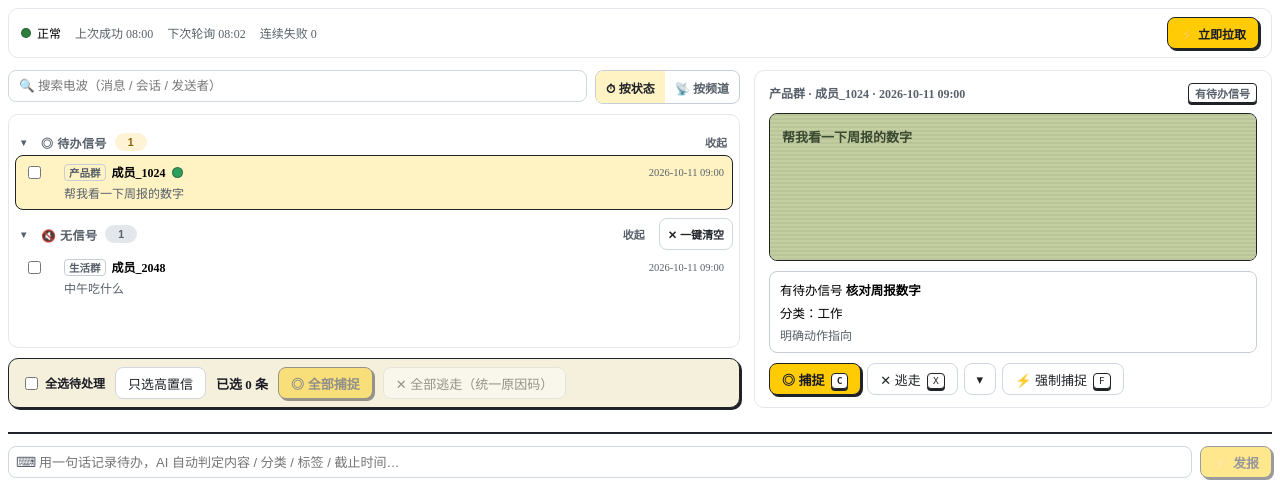
Test: 电波搜索（前端过滤，跨全部分组生效） › 按消息内容过滤：命中入组、未命中隐藏；清空恢复
Type "周报" into the field with test id "radio-search" at (298, 86), box [8, 70, 587, 102]
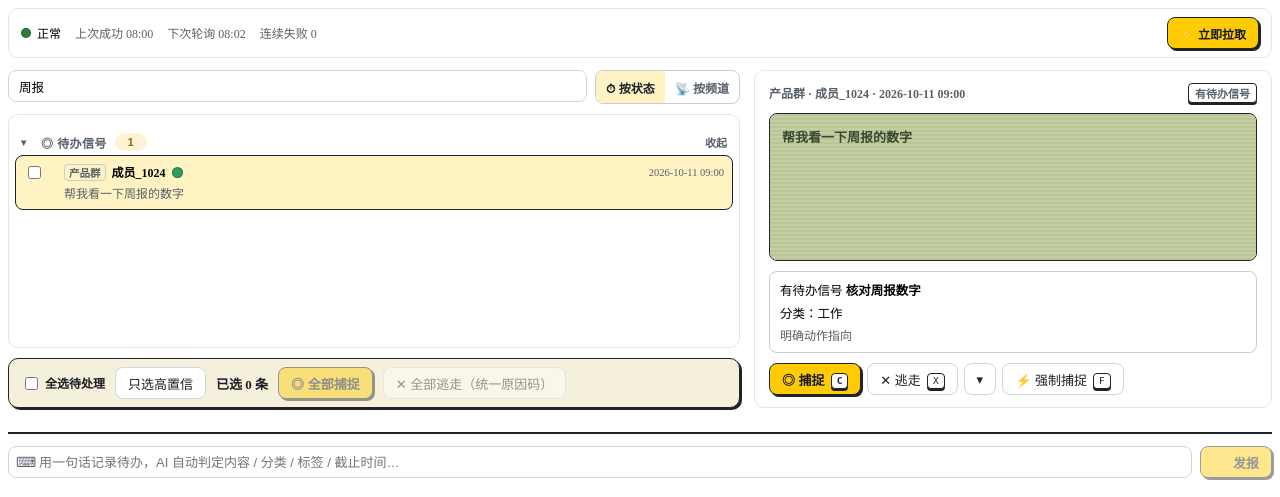
expect the 2nd text "帮我看一下周报的数字" is shown: met, box [64, 187, 184, 201]
expect the button "中午吃什么" is gone: met
Clear the field with test id "radio-search" at (298, 86), box [8, 70, 587, 102]
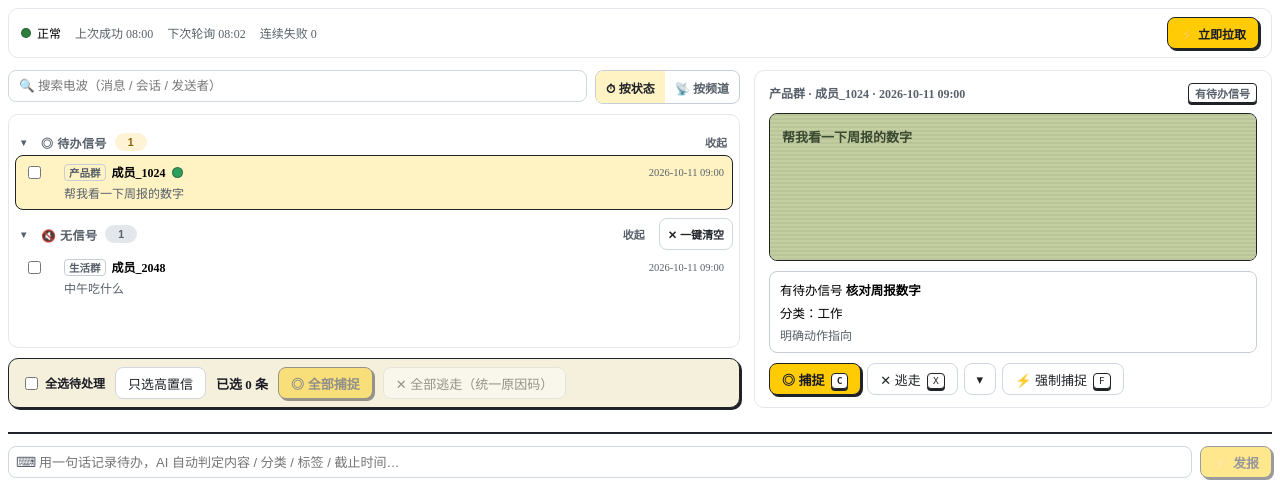
expect the text "中午吃什么" is shown: met, box [64, 282, 124, 296]
